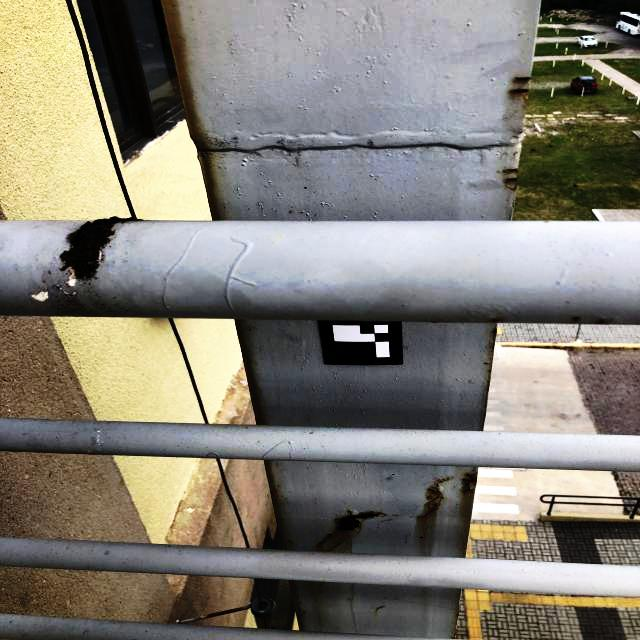Corrosion: (425, 477, 450, 510), (338, 513, 379, 532)
